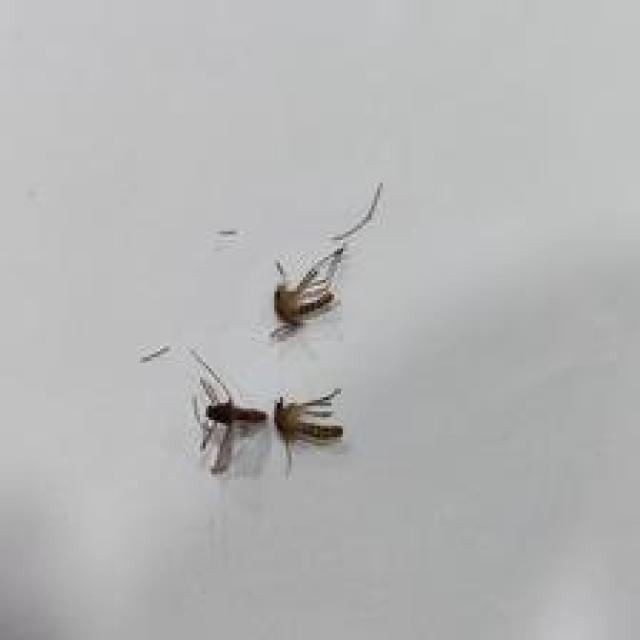Culex: (267, 243, 347, 340)
